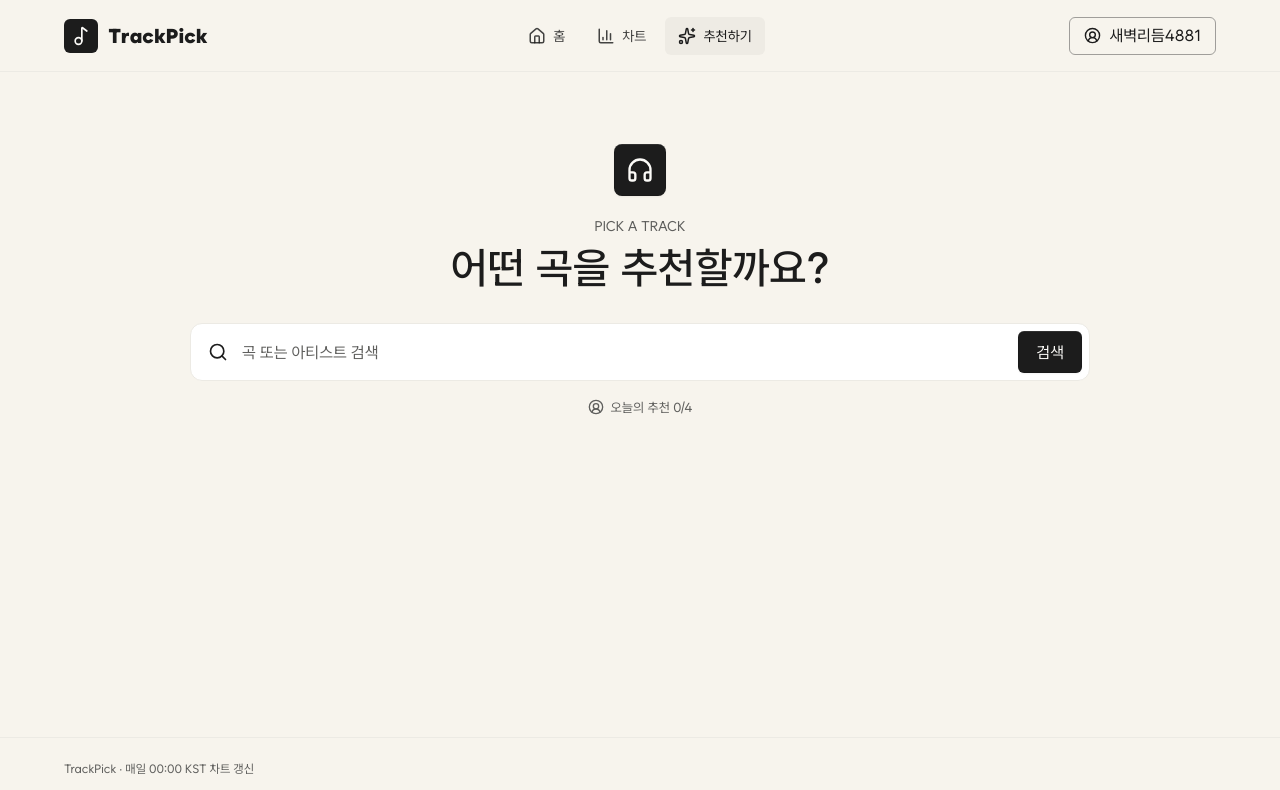
TrackPick app shell › votes for an existing track and updates the daily quota
In the field labelled "곡 또는 아티스트 검색": coordinates (623, 352) 240,342 -> 1006,363, type "Existing"
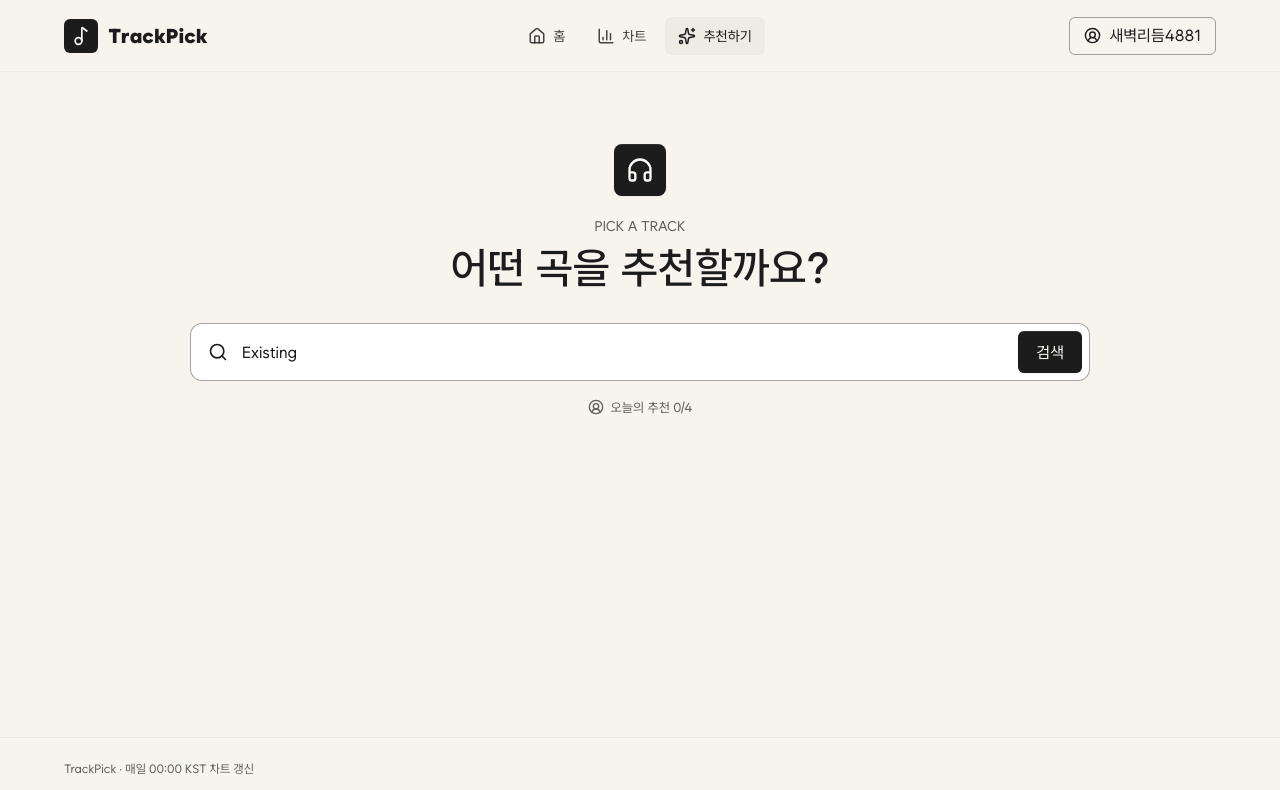
Click the button "검색": coordinates (1050, 352) 1018,331 -> 1082,373
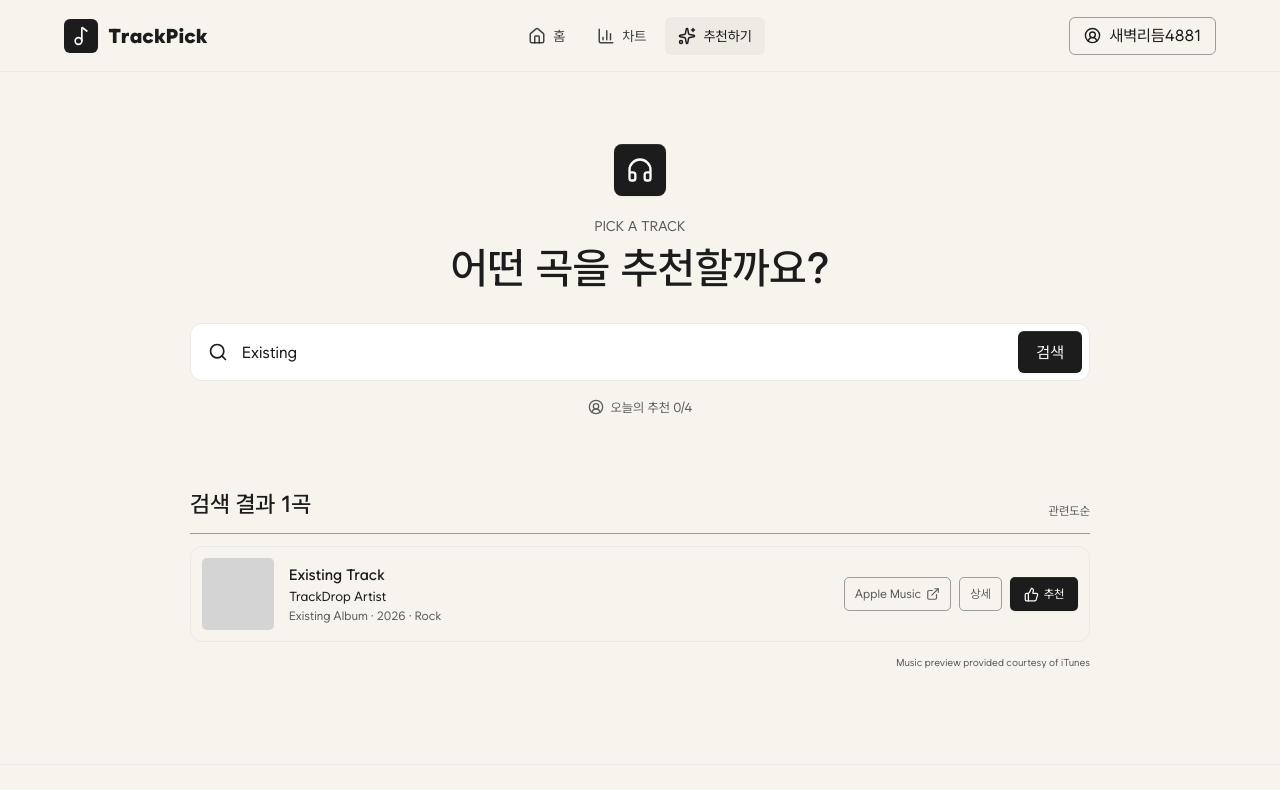
Click the button "추천": coordinates (1044, 594) 1010,577 -> 1078,611
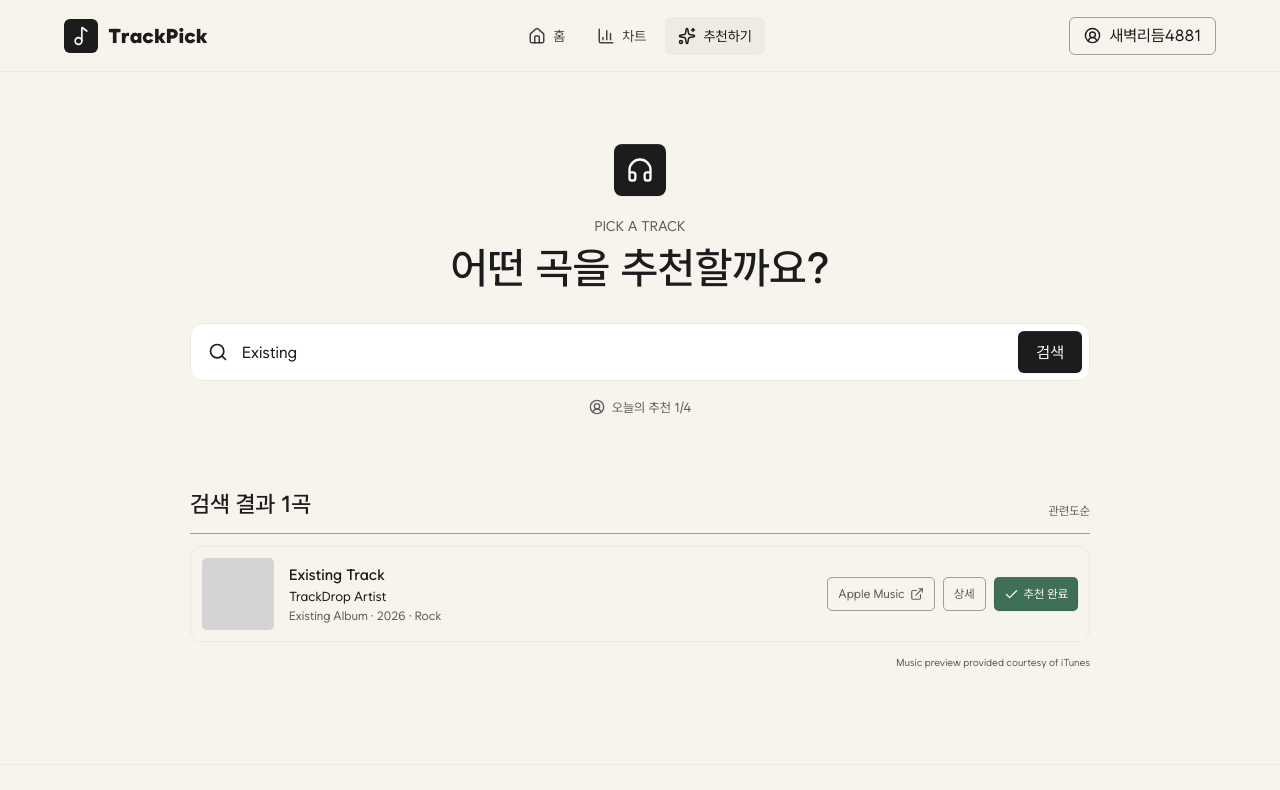
Expected: the button "추천 완료" is disabled, 994,577 -> 1078,611
Expected: the text "오늘의 추천 1/4" is shown, 589,399 -> 691,415
